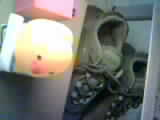duck: (14, 15, 74, 77)
